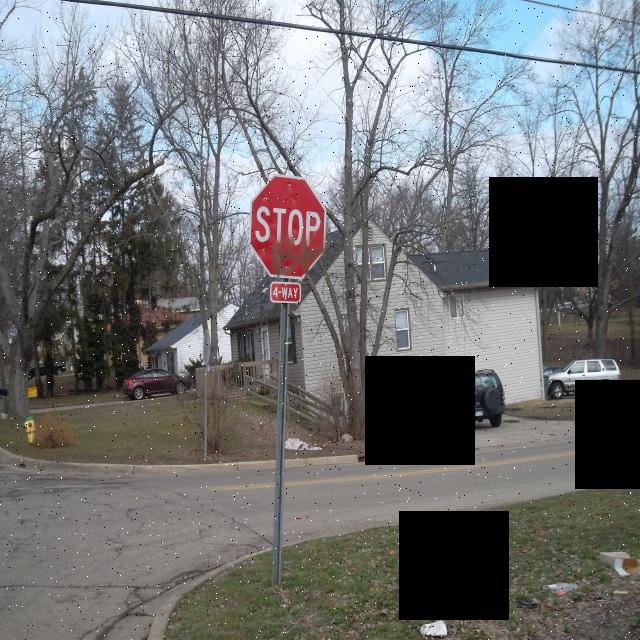stop: (249, 172, 327, 286)
warning: (28, 387, 38, 398)
